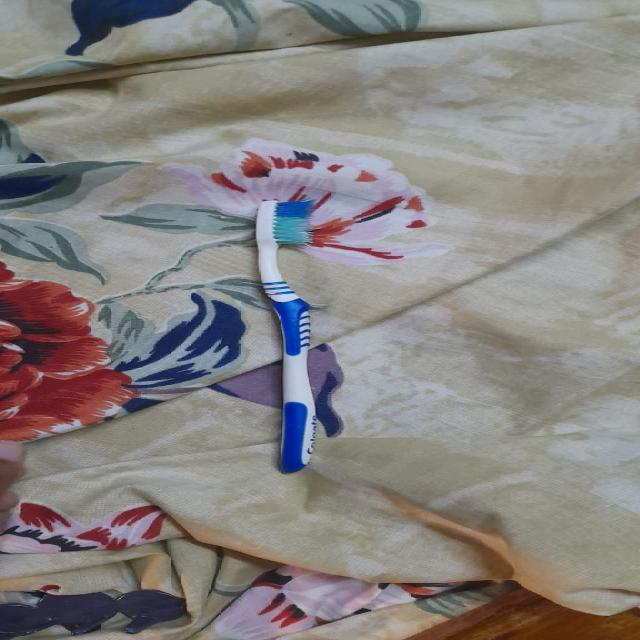Tooth_Brush - Non Recyclable: (222, 189, 363, 497)
